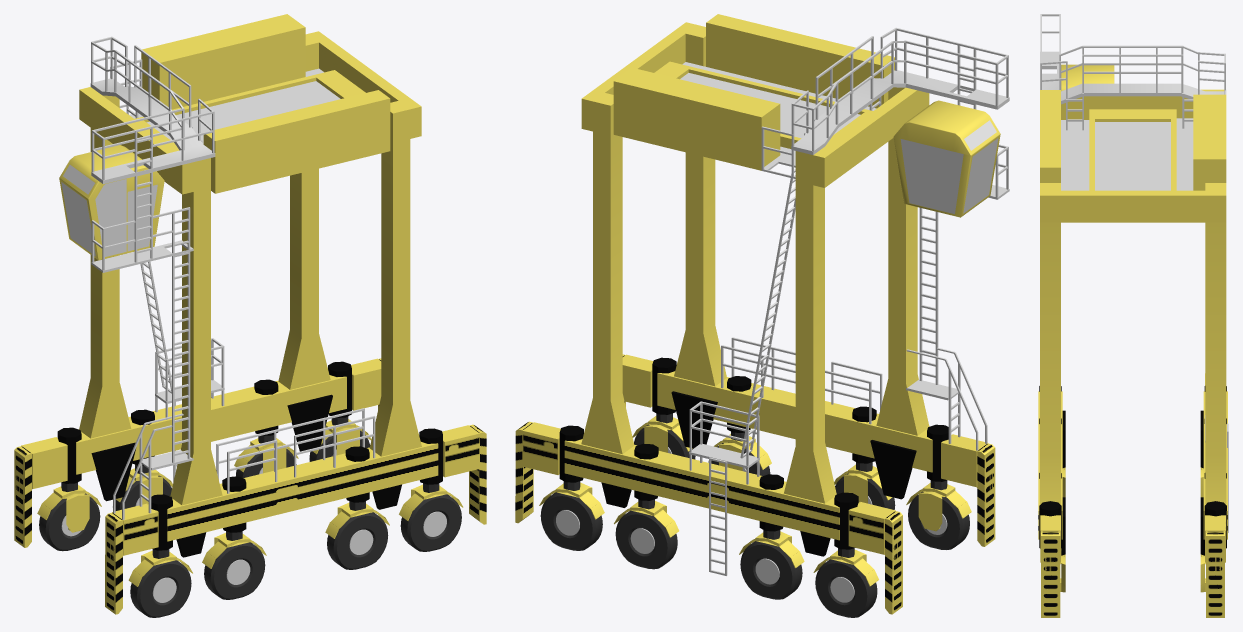
The model's file is Straddle Carrier.fbx.
3 renders of one model, left to right at view 1: azimuth 30°, elevation 25°; view 2: azimuth 150°, elevation 25°; view 3: azimuth 270°, elevation 25°, orthographic. The views are drawn at different scales.
Visible parts, largest first — view 1: Frame poles.Low.001, Floor.Low, Wiel.Low.002, Wiel.Low.006, Wiel.Low.004, Wiel.Low.003, Wiel.Low.010; view 2: Frame poles.Low.001, Floor.Low, Wiel.Low.009, Wiel.Low.007, Wiel.Low.010, Wiel.Low.008, Wiel.Low.003; view 3: Frame poles.Low.001, Floor.Low.
Boxes of the visible parts, left/top/right/bottom form: Frame poles.Low.001: left=14, top=14, right=486, bottom=614; Floor.Low: left=90, top=68, right=340, bottom=470; Wiel.Low.002: left=204, top=542, right=265, bottom=599; Wiel.Low.006: left=400, top=494, right=461, bottom=551; Wiel.Low.004: left=327, top=512, right=388, bottom=569; Wiel.Low.003: left=130, top=560, right=191, bottom=617; Wiel.Low.010: left=39, top=493, right=100, bottom=551; Frame poles.Low.001: left=515, top=14, right=1008, bottom=614; Floor.Low: left=680, top=62, right=1009, bottom=468; Wiel.Low.009: left=740, top=541, right=802, bottom=599; Wiel.Low.007: left=540, top=492, right=602, bottom=550; Wiel.Low.010: left=815, top=559, right=877, bottom=617; Wiel.Low.008: left=615, top=510, right=677, bottom=569; Wiel.Low.003: left=908, top=492, right=969, bottom=549; Frame poles.Low.001: left=1038, top=14, right=1228, bottom=617; Floor.Low: left=1040, top=51, right=1224, bottom=442.
Size of the model in its own units: 1103 by 1370 by 518.
Materials: 16 (11 with a texture image).
